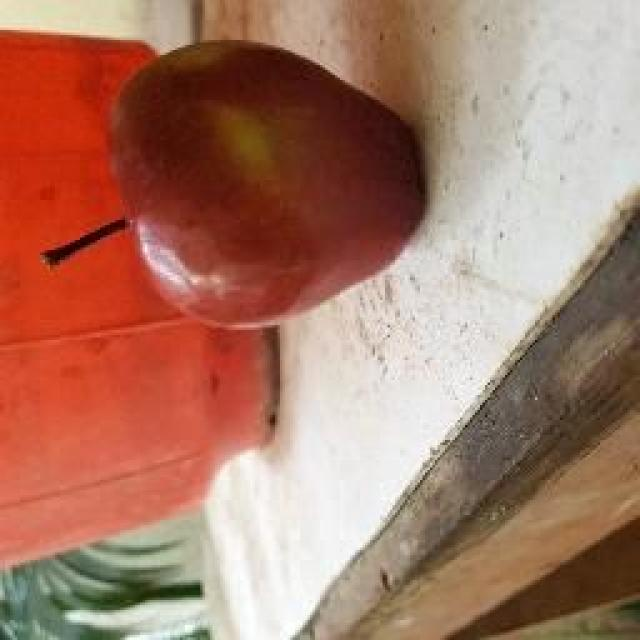Good_Apple: (108, 40, 430, 332)
